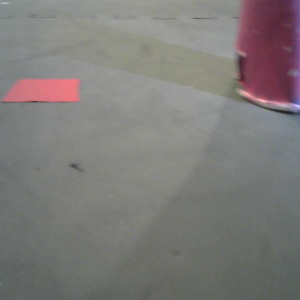right: (218, 1, 300, 118)
